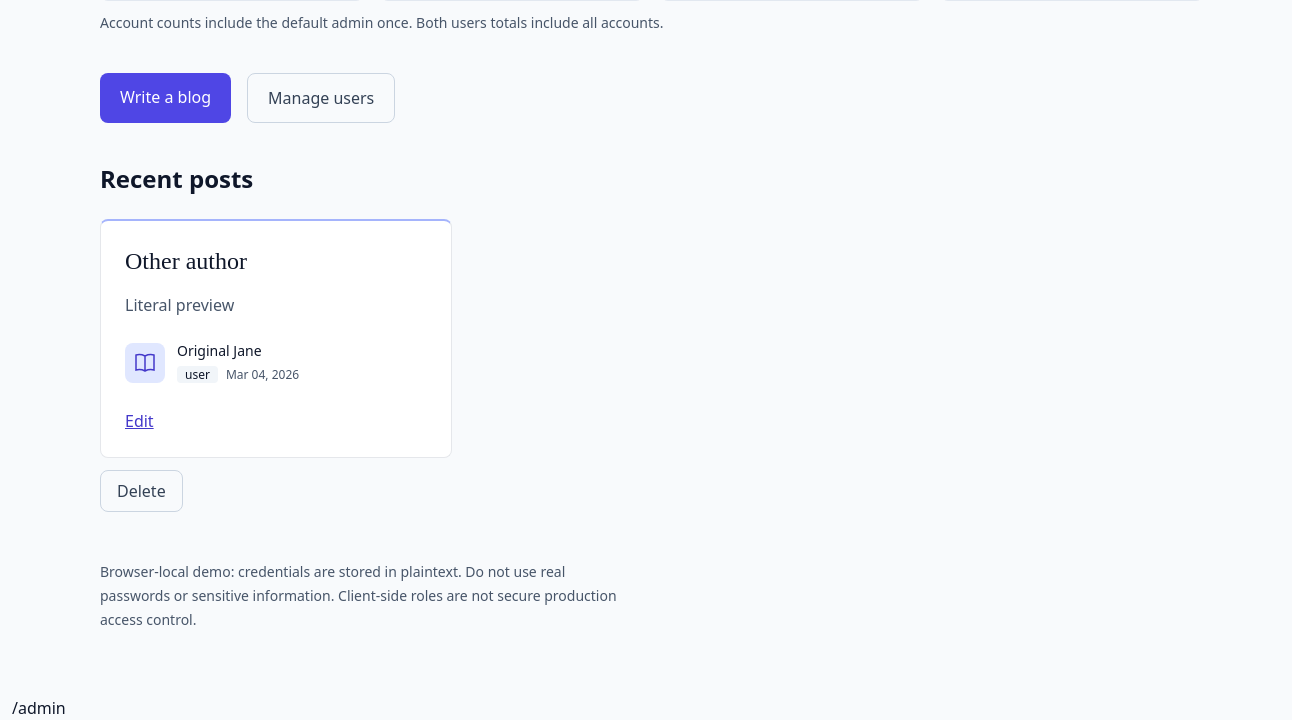
it: deletion branch guest-before preserves integrity and errors never redirect
This screenshot has width=1292, height=720.
(page scrolled)
Click the button with aria-label "Delete Other author" at (141, 491), box [100,470,183,512]
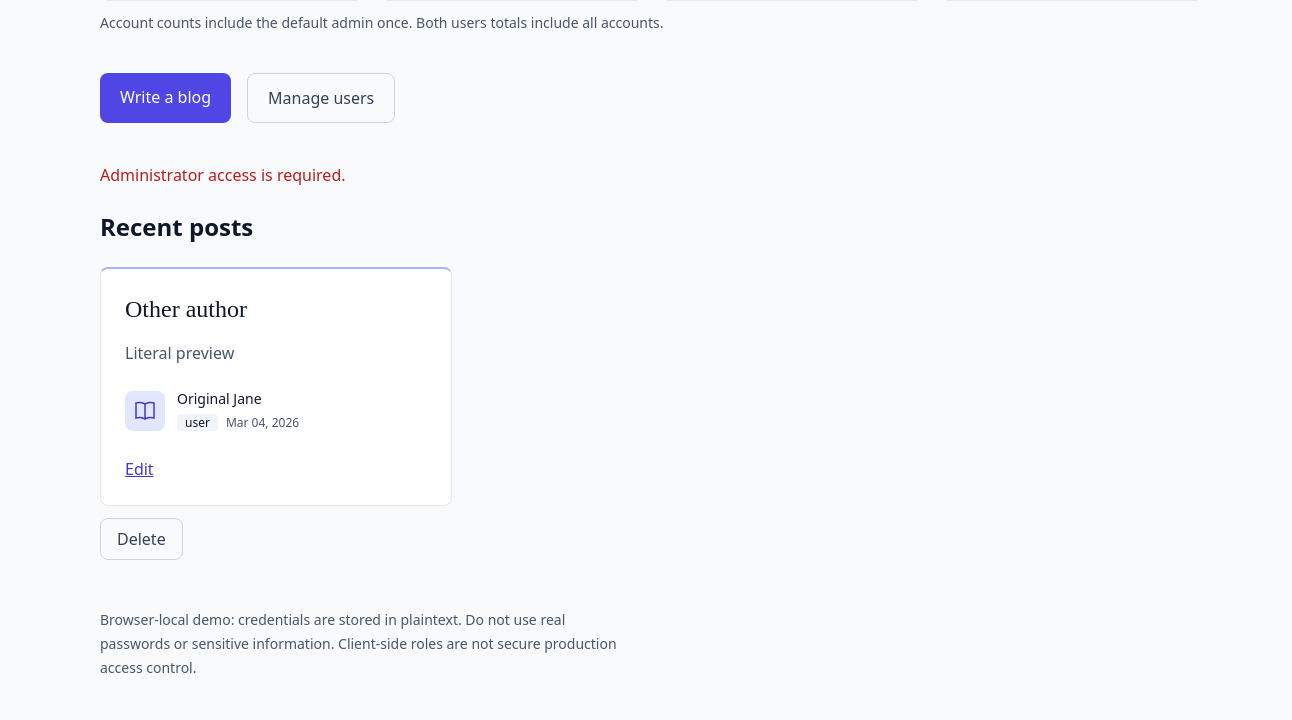
expect the message shows "Administrator access": met, box [100,164,346,186]
